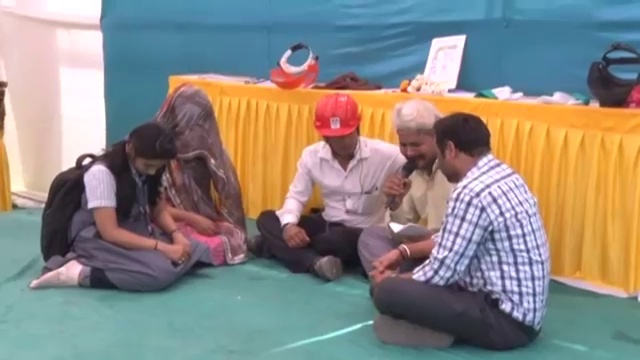helmet: (307, 96, 364, 147)
helmet_off: (436, 111, 495, 182), (160, 86, 216, 156), (120, 119, 175, 185), (394, 100, 440, 172)
helmet_on: (309, 102, 365, 166)
person: (375, 97, 558, 352), (31, 120, 201, 295), (247, 93, 399, 283), (146, 78, 248, 266), (355, 96, 453, 277)
